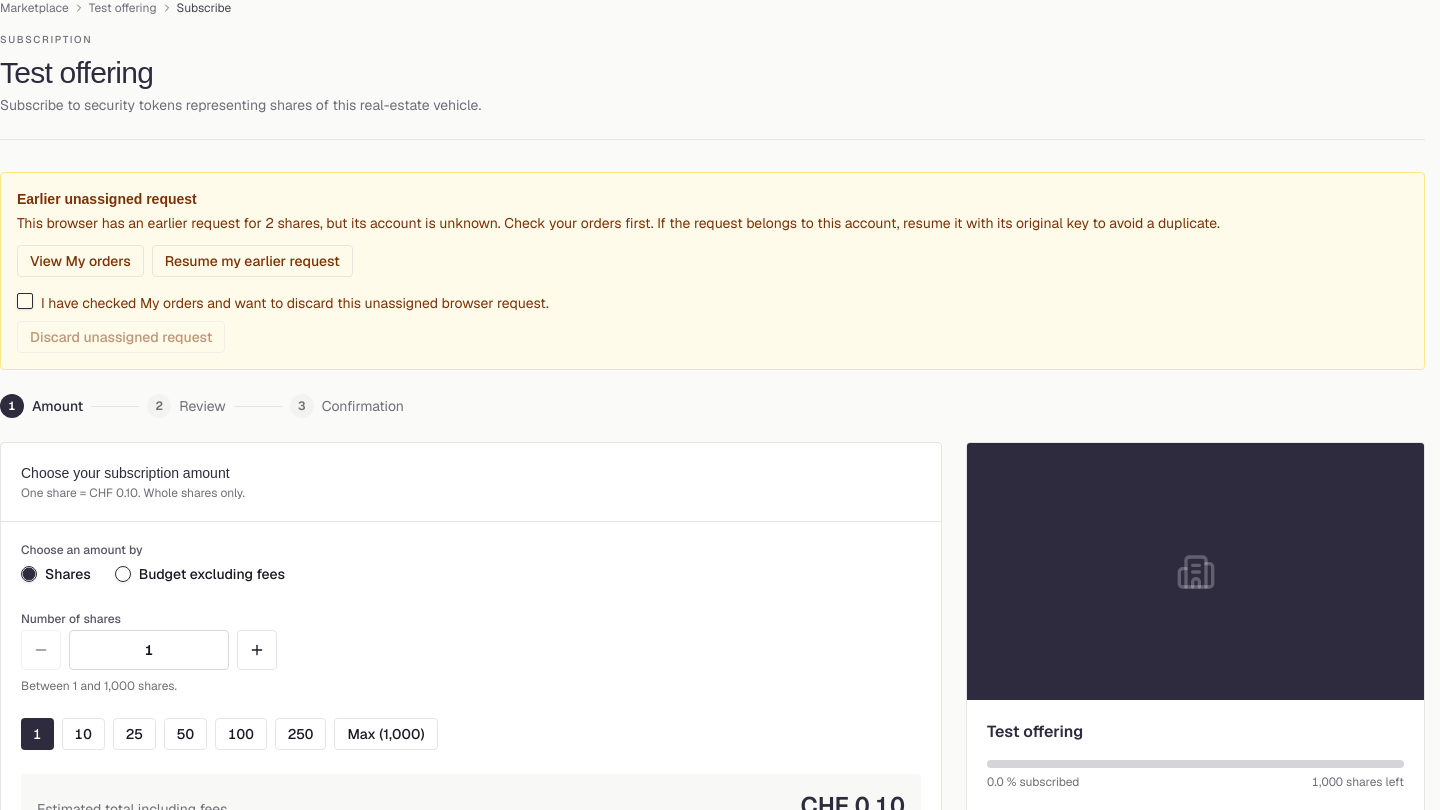
Test: does not overwrite an unassigned older request without an explicit decision
Expected: the heading "Earlier unassigned request" is shown, 17,191 -> 197,207
Click the button "Resume my earlier request" at (252, 261), box 152,245 -> 353,277
(page scrolled)
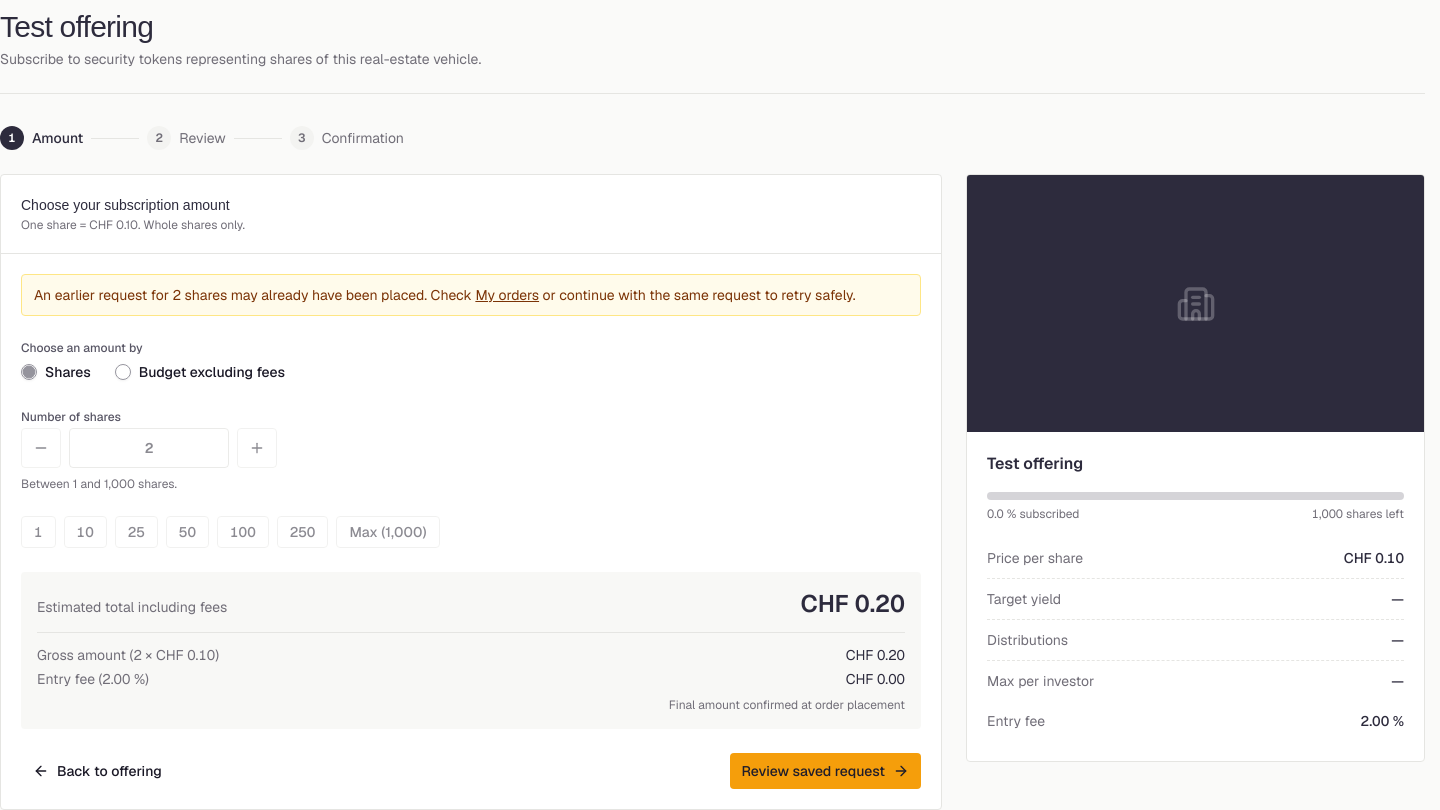
Now the field labelled "Number of shares" holds "2", box 69,428 -> 229,468
Now the button "Review saved request" is enabled, box 730,753 -> 921,789
